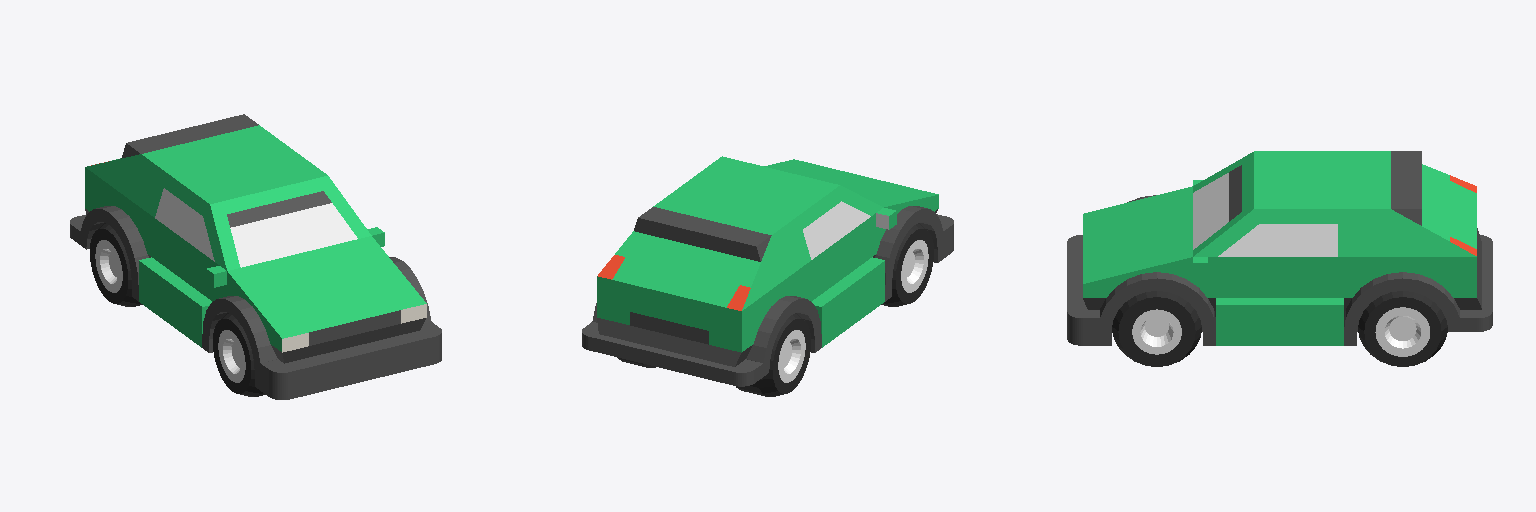
Rendered from hatchbackSports.obj.
The picture shows the model from 3 angles: view 1: azimuth 30°, elevation 25°; view 2: azimuth 150°, elevation 25°; view 3: azimuth 270°, elevation 25°; orthographic projection.
Parts seen in each view (by area): view 1: body, wheel_backRight, wheel_frontRight; view 2: body, wheel_backRight, wheel_frontRight; view 3: body, wheel_backLeft, wheel_frontLeft.
Part boxes in pixels (x1,y1,x2,y2): body: (70,114,441,399); wheel_backRight: (90,223,142,306); wheel_frontRight: (213,313,264,396); body: (582,156,953,386); wheel_backRight: (736,313,810,396); wheel_frontRight: (881,223,933,306); body: (1067,151,1492,345); wheel_backLeft: (1358,291,1447,366); wheel_frontLeft: (1112,291,1201,366).
Size of the model in its own units: 51.18 by 43.31 by 110.